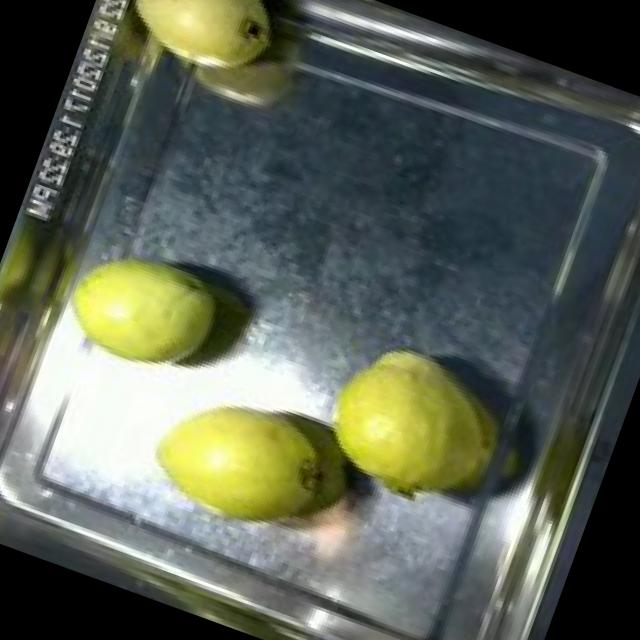Fruit: (126, 362, 380, 570), (296, 318, 532, 537), (44, 222, 244, 398), (91, 0, 309, 113)
